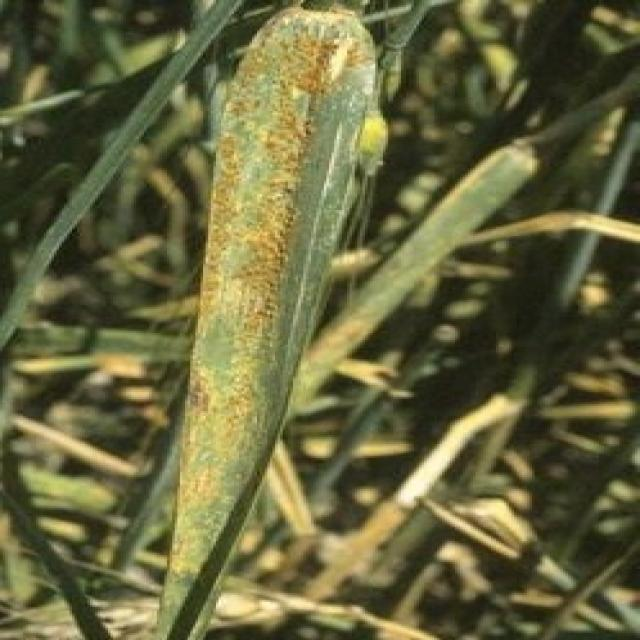Elderberry_rust: (198, 1, 406, 640)
